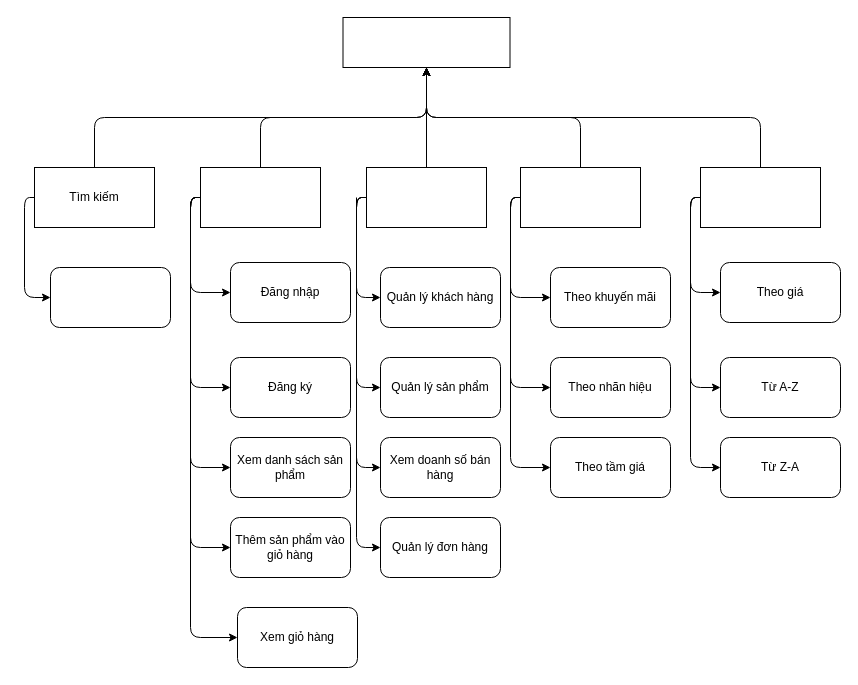
Image size: 858x685. Some labels were removed from this diagram. Here are the shapes that lost their labels. From the top down, the centre of each, then its label:
[426,42]: Website bán máy tính
[260,197]: Giao dịch
[426,197]: Quản trị
[580,197]: Lọc sản phẩm
[760,197]: Sắp xếp sản phẩm
[110,297]: Tìm kiếm sản phẩm theo tên
